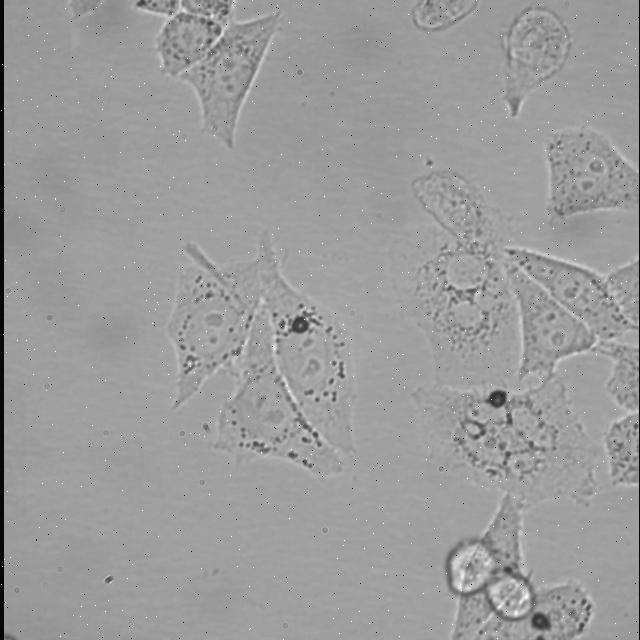microbeads: (288, 314, 306, 338), (482, 392, 506, 410)
